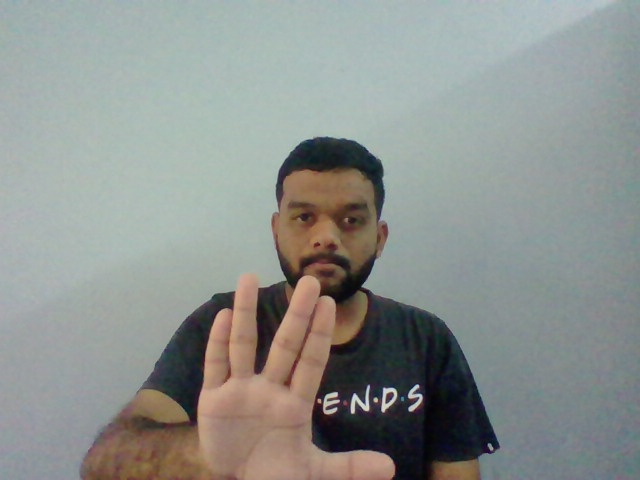Live long and prosper: (198, 271, 396, 480)
